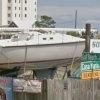Boat: (4, 19, 88, 82)
